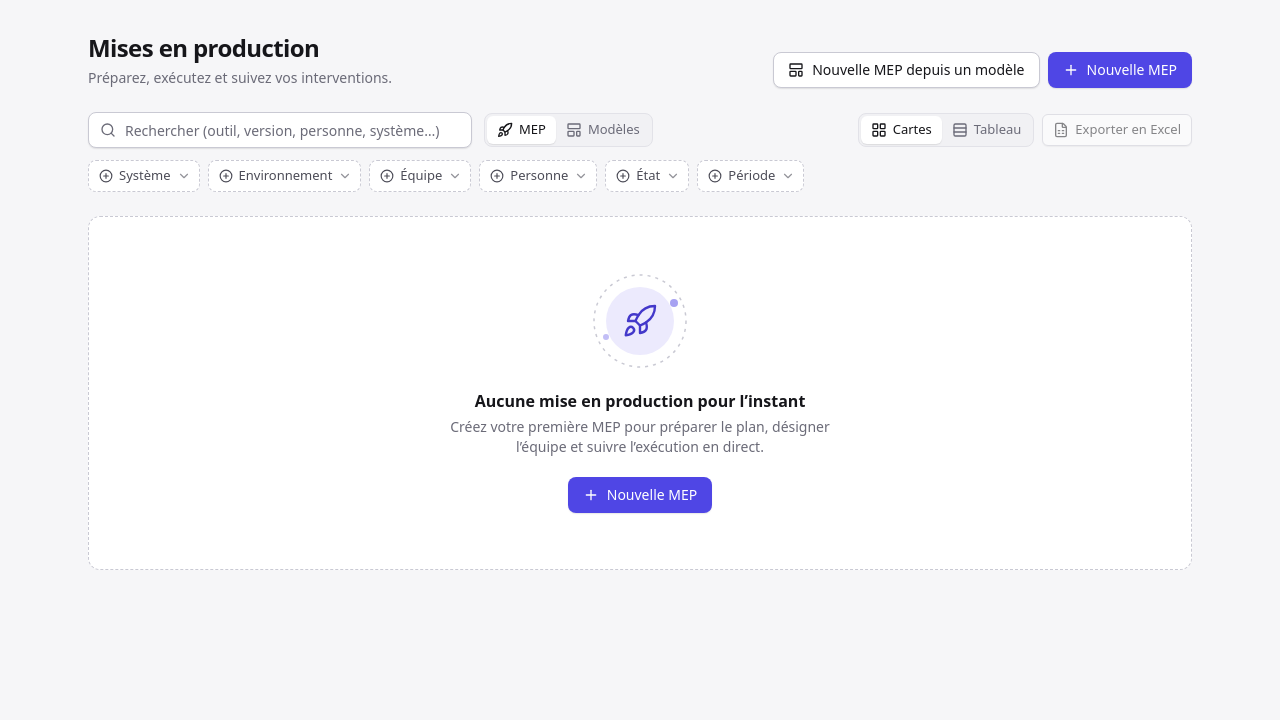
Test: ListeMepPage : MEP simplifiée › pas de choix de type pour un modèle
The image size is (1280, 720).
Click the radio button labelled "Modèles" at [603, 130], box [556,116,650,144]
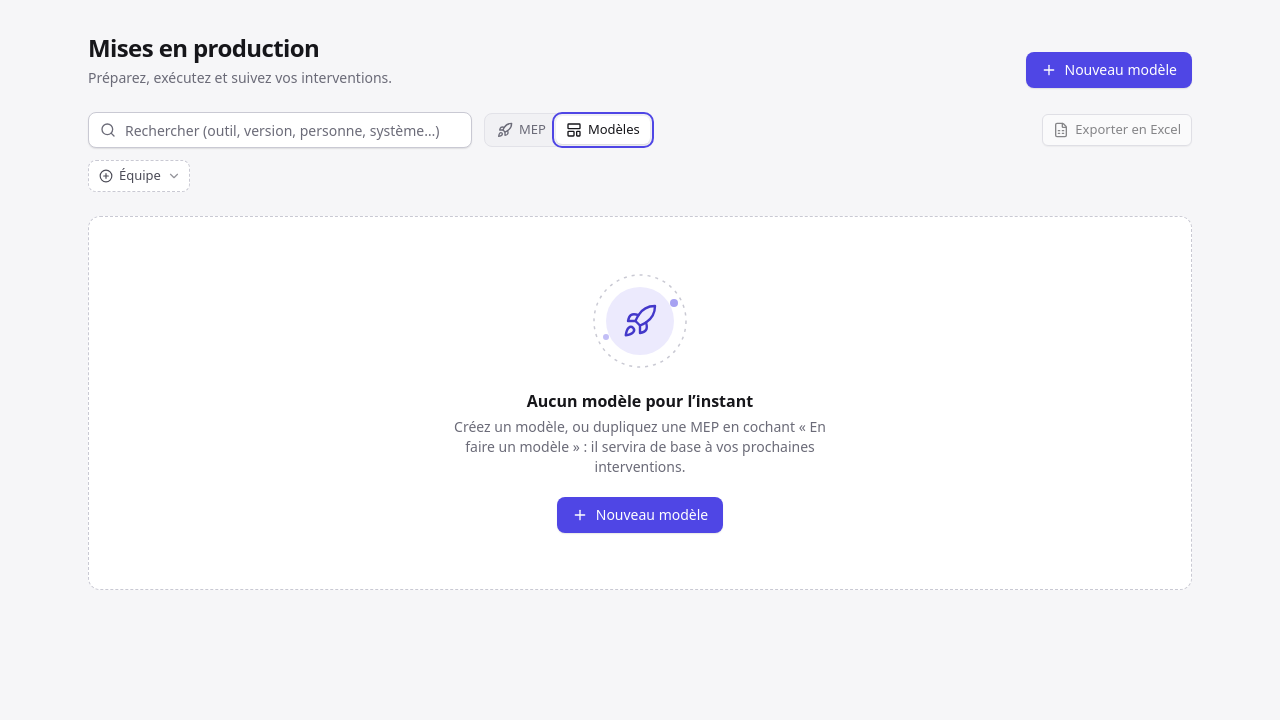
Click the button "Nouveau modèle" in the row of "Mises en production" at [1109, 70], box [1026,52,1192,88]
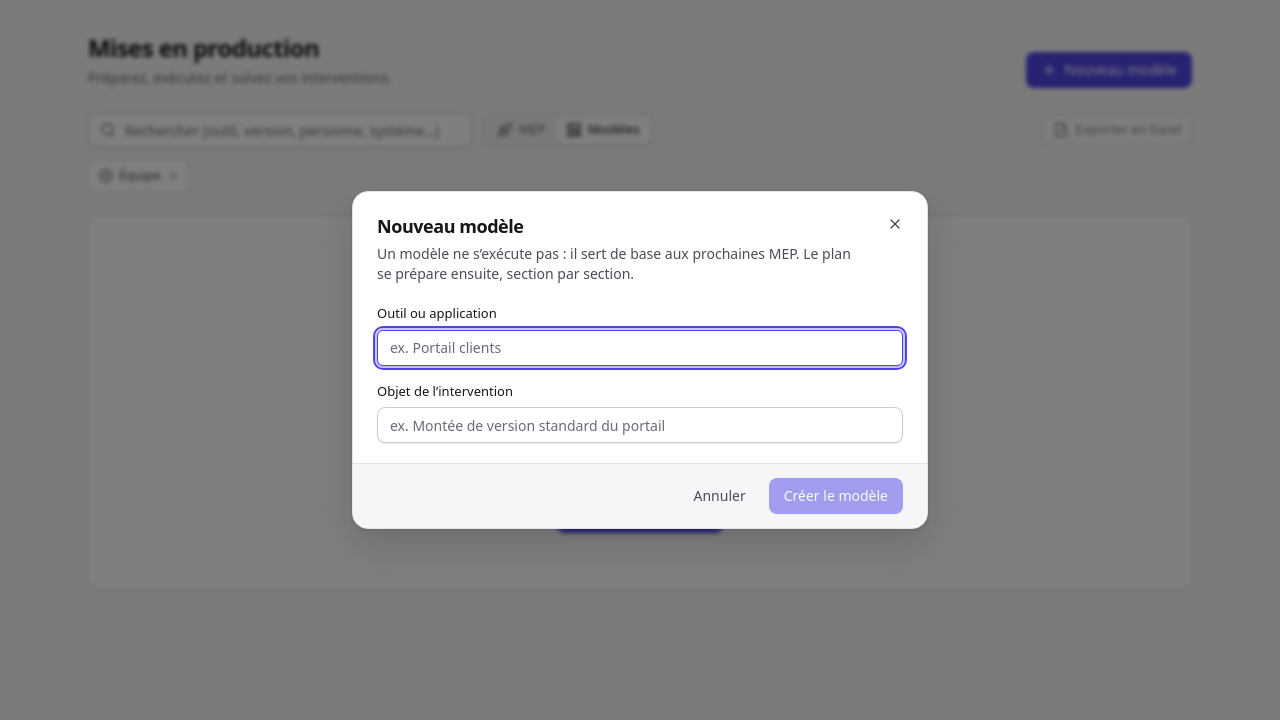
Check: the dialog "Nouveau modèle" is shown, box [352,191,928,529]
